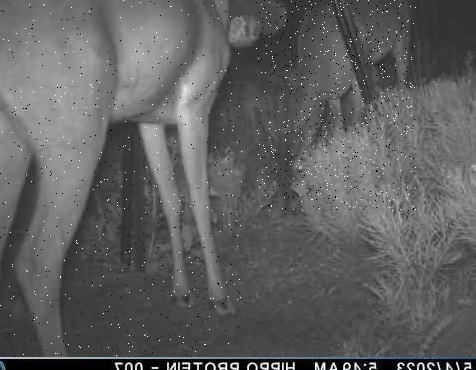Deer: (0, 0, 242, 357), (256, 0, 416, 211)
